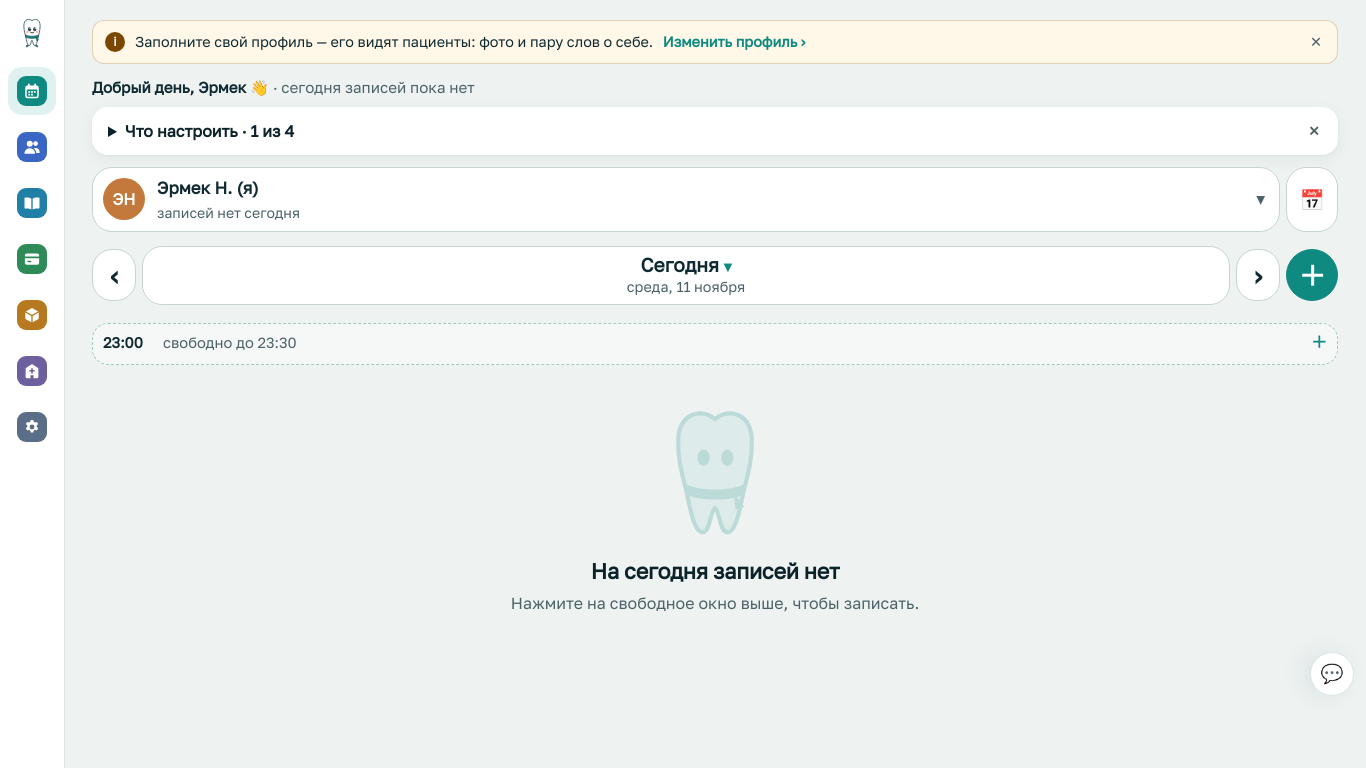
Test: «Как было» сбрасывает свой порядок: снова свой врач первым
The image size is (1366, 768).
Click the button with aria-label "Чьё расписание: Эрмек Н. (я)" at (124, 199), box x1=92 y1=167 x2=1280 y2=232
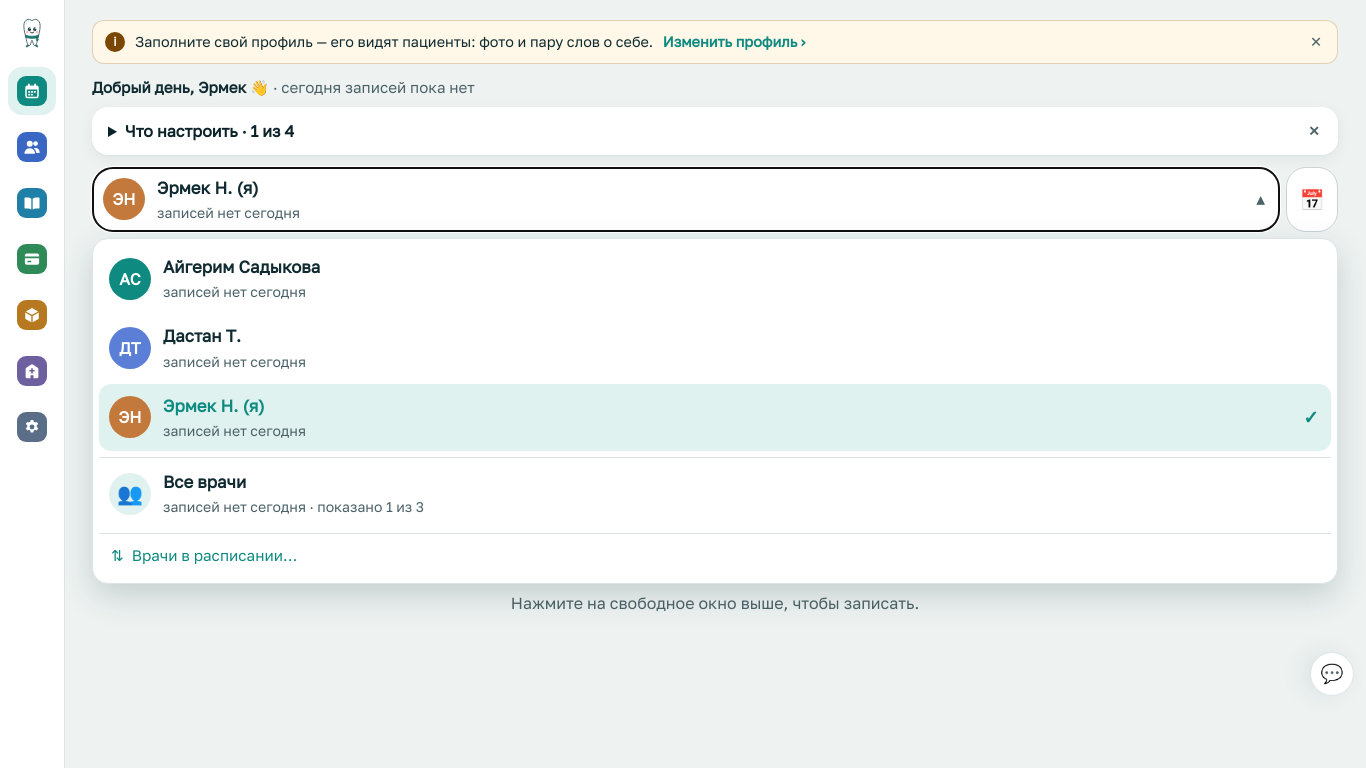
Click the option "👥 Все врачи записей нет сегодня · показано 1 из 3" at (130, 494), box x1=99 y1=457 x2=1331 y2=527
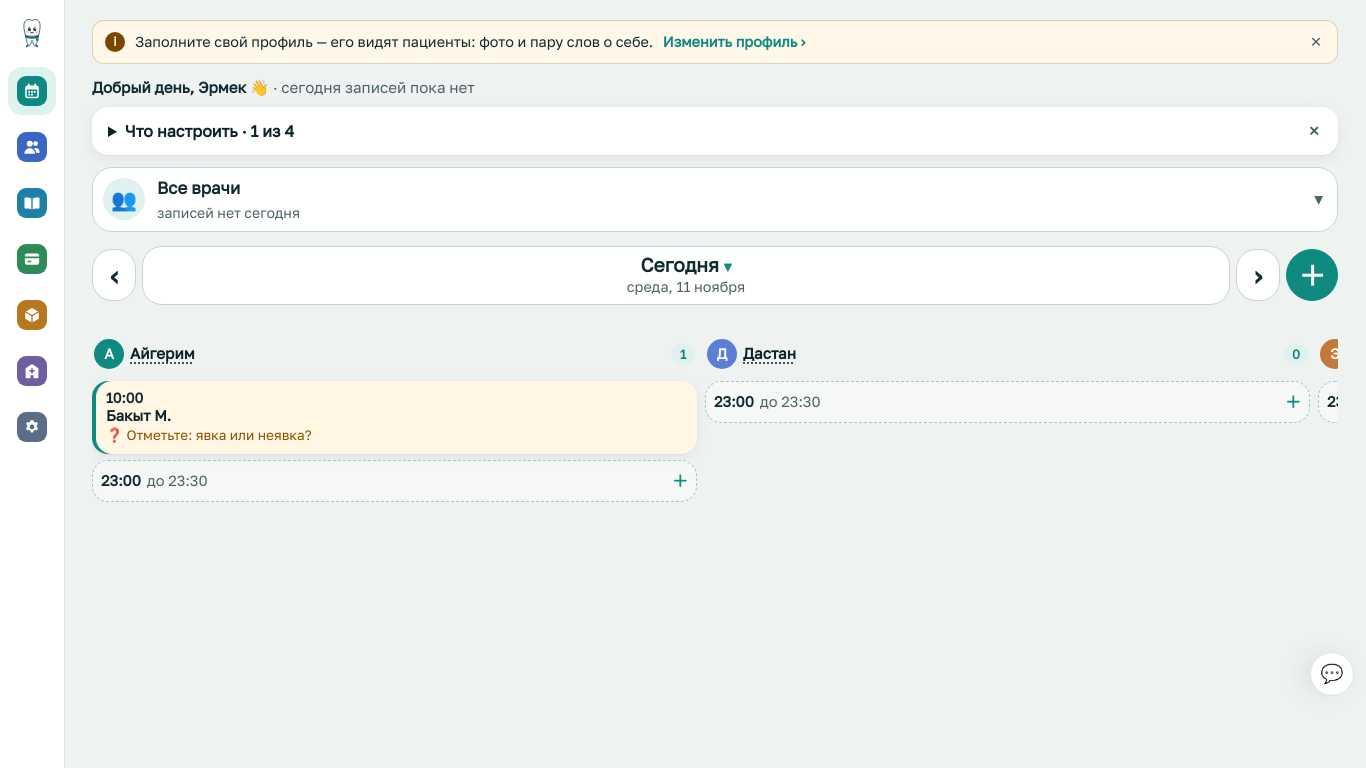
Click the button with aria-label "Чьё расписание: Все врачи" at (124, 199), box x1=92 y1=167 x2=1338 y2=232
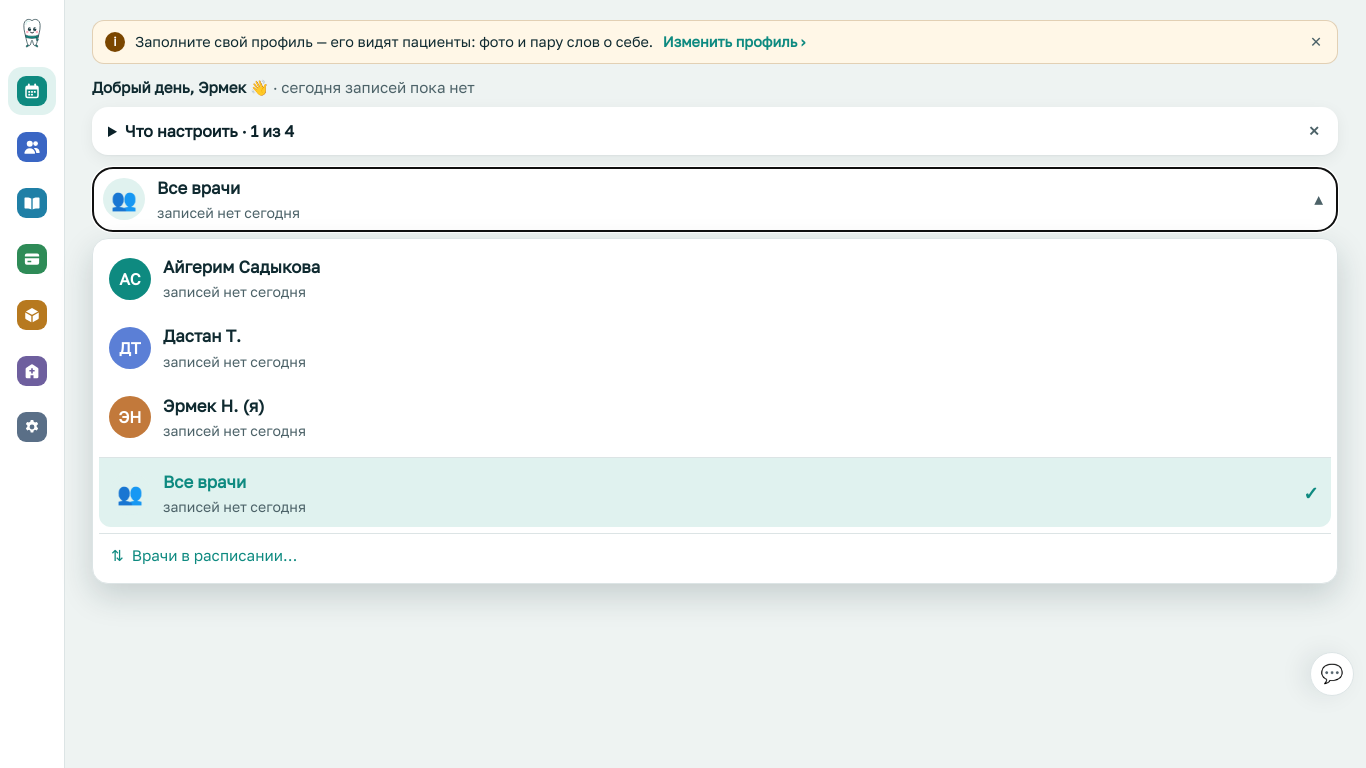
Click the button "⇅ Врачи в расписании…" at (214, 555), box x1=99 y1=533 x2=1331 y2=577
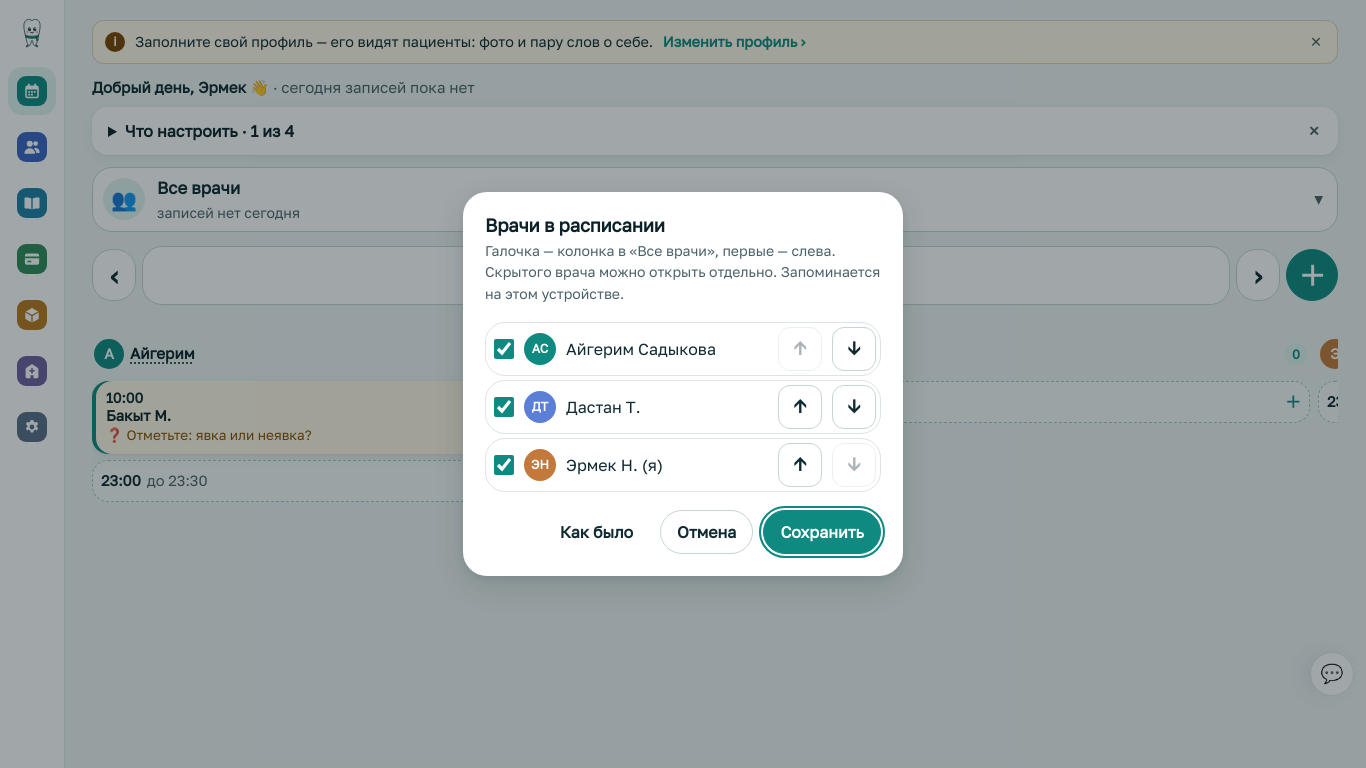
Click the button "Как было" at (596, 532), box x1=543 y1=510 x2=650 y2=554
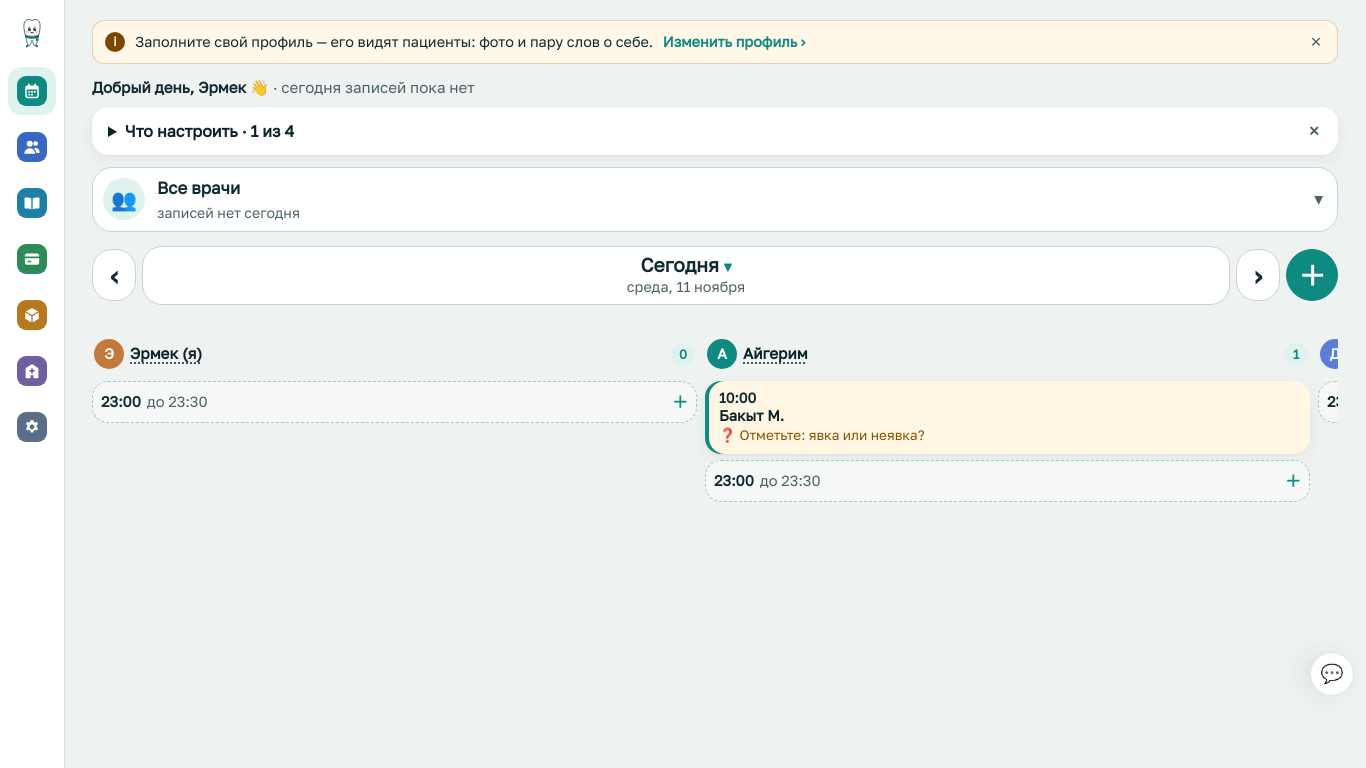
Check: the heading "Врачи в расписании" is gone
